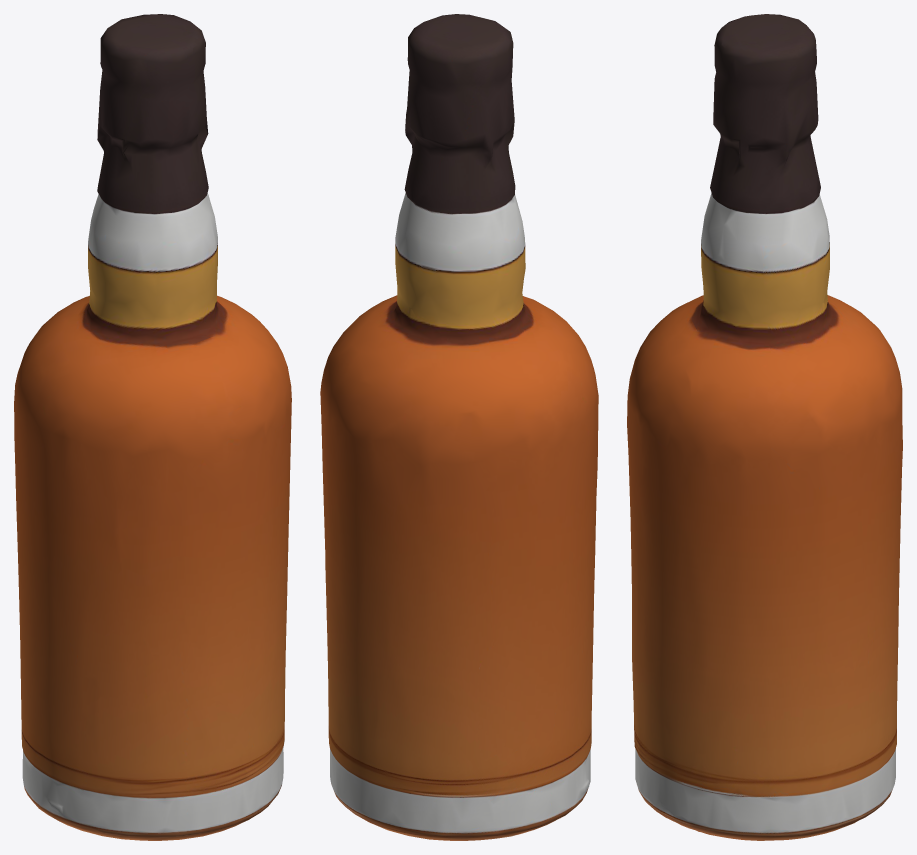
Rendered from ron.glb.
3 renders of one model, left to right at view 1: azimuth 30°, elevation 25°; view 2: azimuth 150°, elevation 25°; view 3: azimuth 270°, elevation 25°, orthographic.
Parts seen in each view (by area): view 1: tripo_node_c84445ee-daa0-406f-a4d4-eb7d8454db94; view 2: tripo_node_c84445ee-daa0-406f-a4d4-eb7d8454db94; view 3: tripo_node_c84445ee-daa0-406f-a4d4-eb7d8454db94.
Boxes of the visible parts, <box> form: tripo_node_c84445ee-daa0-406f-a4d4-eb7d8454db94: <box>14,14,291,840</box>; tripo_node_c84445ee-daa0-406f-a4d4-eb7d8454db94: <box>320,14,598,840</box>; tripo_node_c84445ee-daa0-406f-a4d4-eb7d8454db94: <box>627,14,902,840</box>.
Size of the model in its own units: 0.0988 by 0.3 by 0.0986.
Materials: 1 (1 with a texture image).
